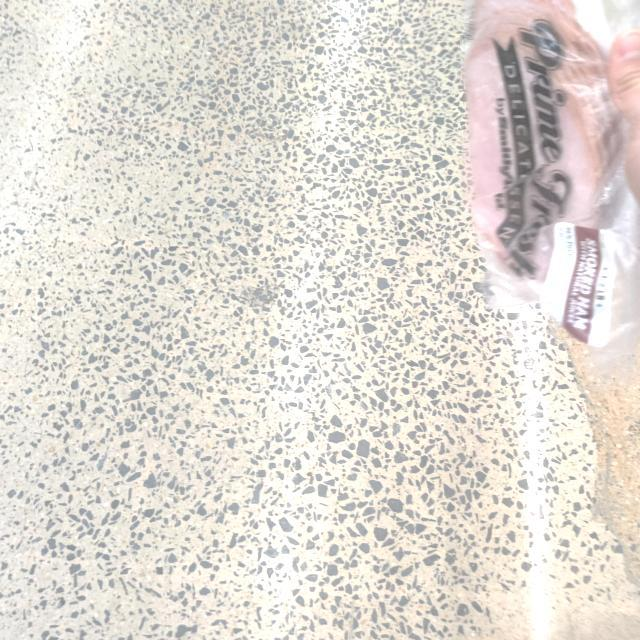Meat: (453, 0, 640, 350)
